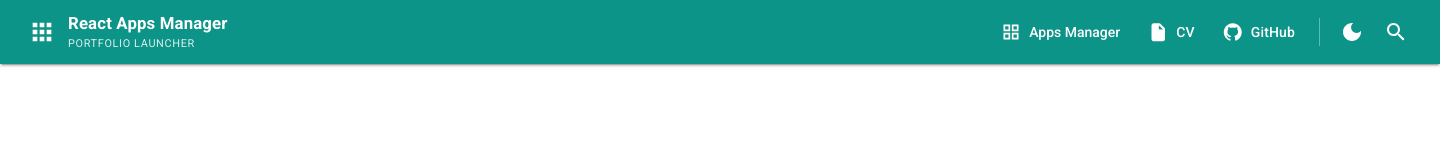
it: AppsManagerNavbar › desktop › closes the apps menu on escape
Click the button "Apps Manager". click: (1061, 32)
box: [989,14,1132,50]
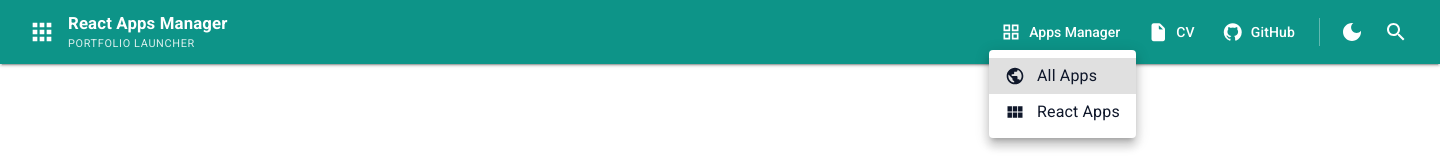
Check: the menu item "All Apps" is shown, box [989,58,1136,94]
Press Escape
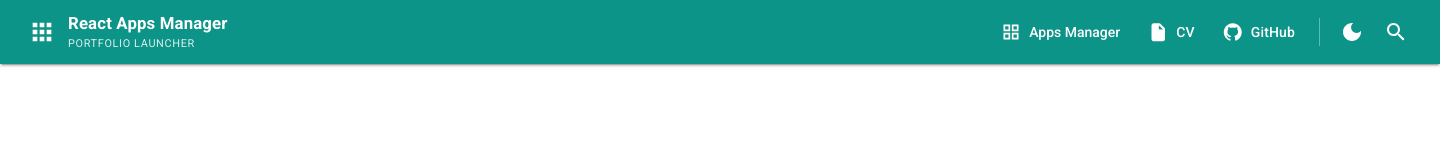
Check: the menu item "All Apps" is gone
